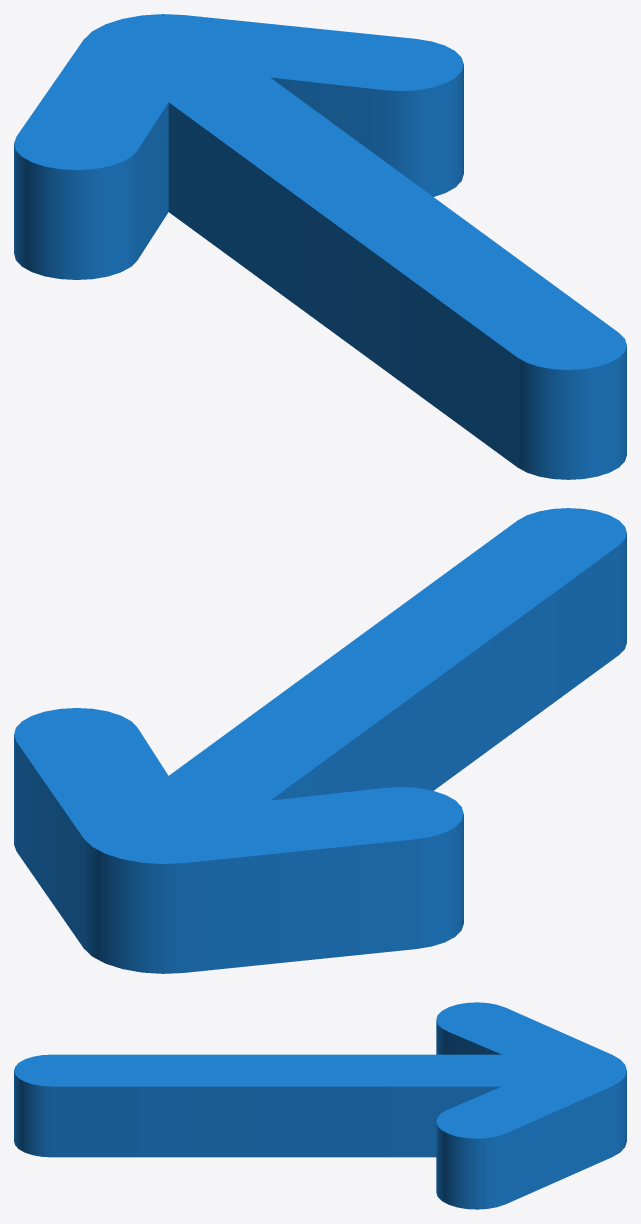
Rendered from freccia.gltf.
3 views of the same model, one above another, from view 1: azimuth 30°, elevation 25°; view 2: azimuth 150°, elevation 25°; view 3: azimuth 270°, elevation 25° (orthographic). The views are drawn at different scales.
Parts seen in each view (by area): view 1: Arrow06_5; view 2: Arrow06_5; view 3: Arrow06_5.
Part boxes in pixels (x1,y1,x2,y2): Arrow06_5: (14,14,626,479); Arrow06_5: (14,508,626,973); Arrow06_5: (14,1002,626,1209).
Size of the model in its own units: 0.1472 by 0.0357 by 0.2795.
